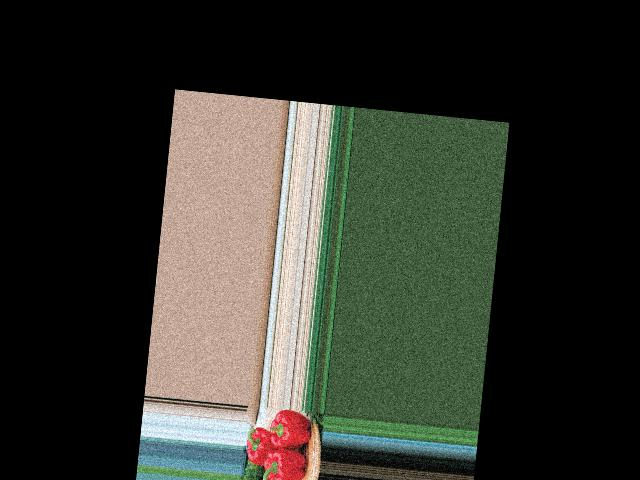bell_pepper: (261, 442, 313, 480)
